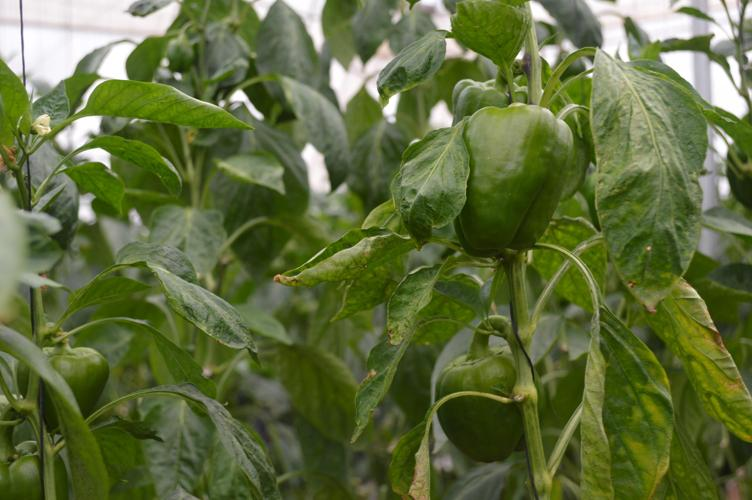BellPepper: (440, 104, 576, 257), (437, 339, 540, 469), (13, 342, 114, 436)
